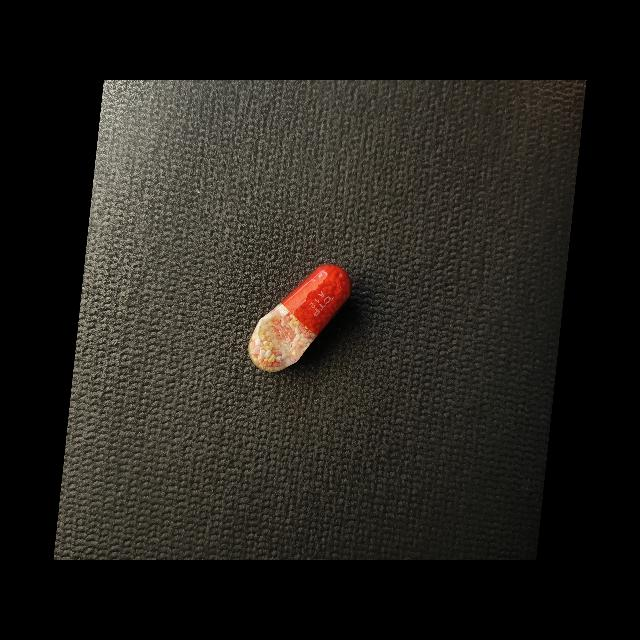Defective Capsule: (248, 264, 352, 372)
